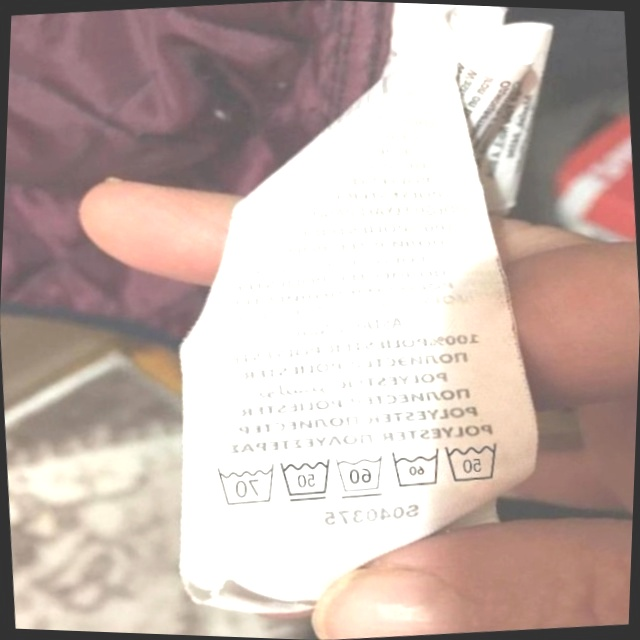50C: (438, 431, 508, 491), (273, 451, 337, 509)
60C: (328, 447, 389, 503), (384, 441, 446, 496)
70C: (208, 457, 279, 512)
